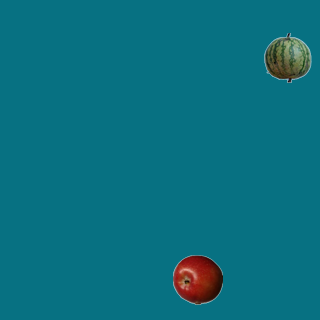Apple Braeburn: (172, 254, 222, 304)
Watermelon: (262, 32, 312, 82)
